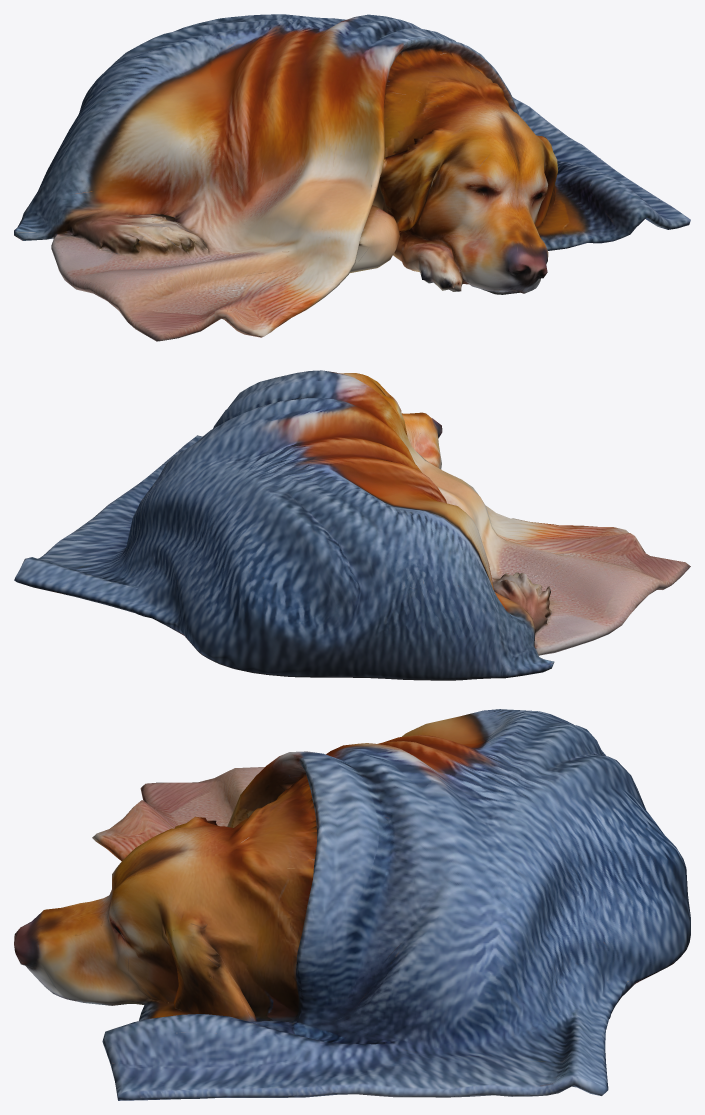
File: köpek.fbx
3 views of the same model, one above another, from view 1: azimuth 30°, elevation 25°; view 2: azimuth 150°, elevation 25°; view 3: azimuth 270°, elevation 25° (orthographic). The views are drawn at different scales.
Parts seen in each view (by area): view 1: Mesh_0; view 2: Mesh_0; view 3: Mesh_0.
Boxes of the visible parts, left/top/right/bottom form: Mesh_0: left=14, top=14, right=690, bottom=341; Mesh_0: left=14, top=370, right=690, bottom=680; Mesh_0: left=14, top=709, right=690, bottom=1100.
Size of the model in its own units: 191 by 61.71 by 173.
Materials: 1 (1 with a texture image).
